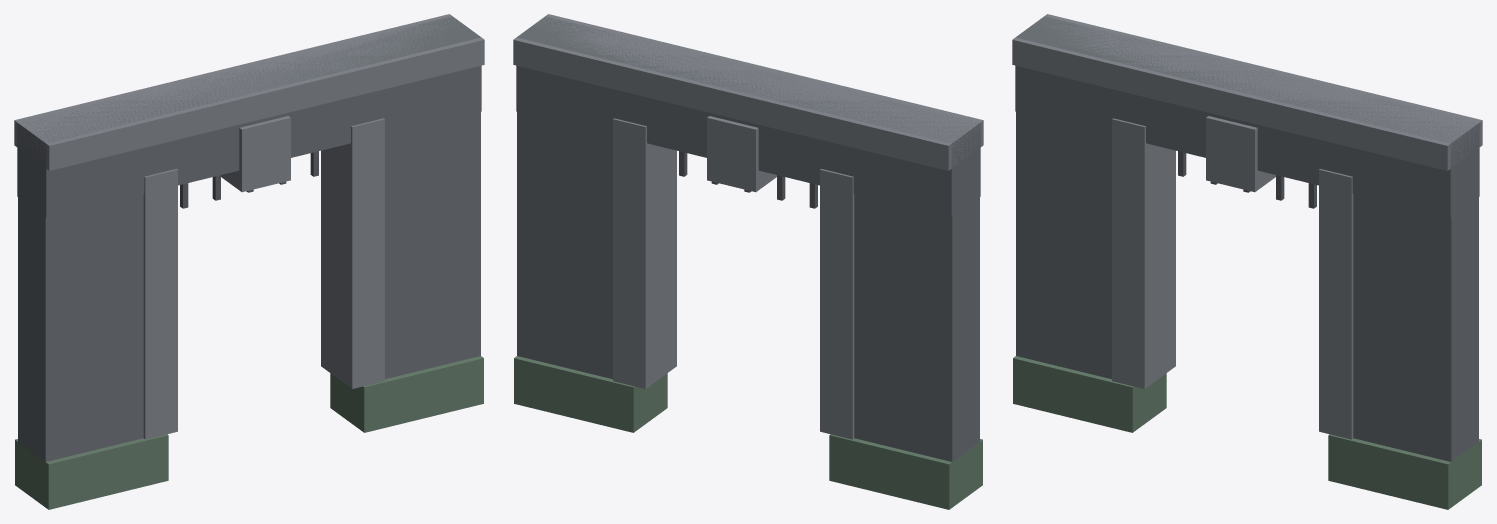
File: castle_arch.glb
The picture shows the model from 3 angles, left to right: view 1: azimuth 30°, elevation 25°; view 2: azimuth 150°, elevation 25°; view 3: azimuth 330°, elevation 25°; orthographic projection.
Parts seen in each view (by area): view 1: Castle_Arch; view 2: Castle_Arch; view 3: Castle_Arch.
Part boxes in pixels (box(x1,y1,x2,y2)): Castle_Arch: box(14, 14, 484, 509); Castle_Arch: box(513, 14, 983, 509); Castle_Arch: box(1012, 14, 1482, 509).
Size of the model in its own units: 4 by 3.2 by 0.56.
